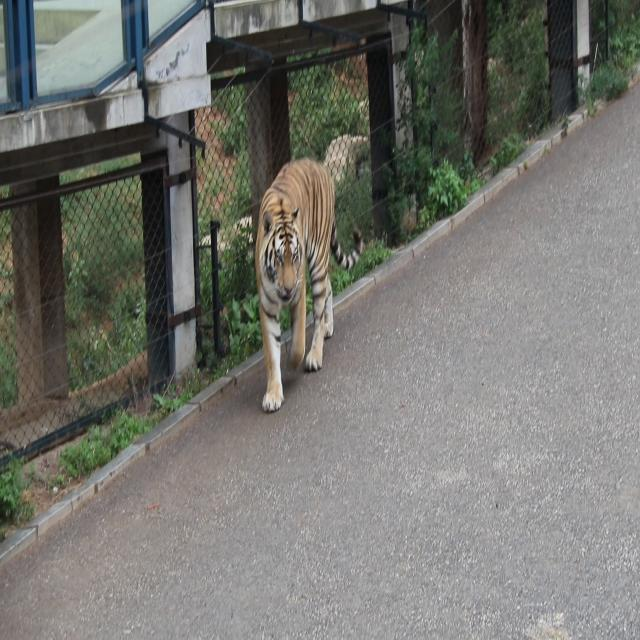Tiger: (232, 135, 370, 423)
